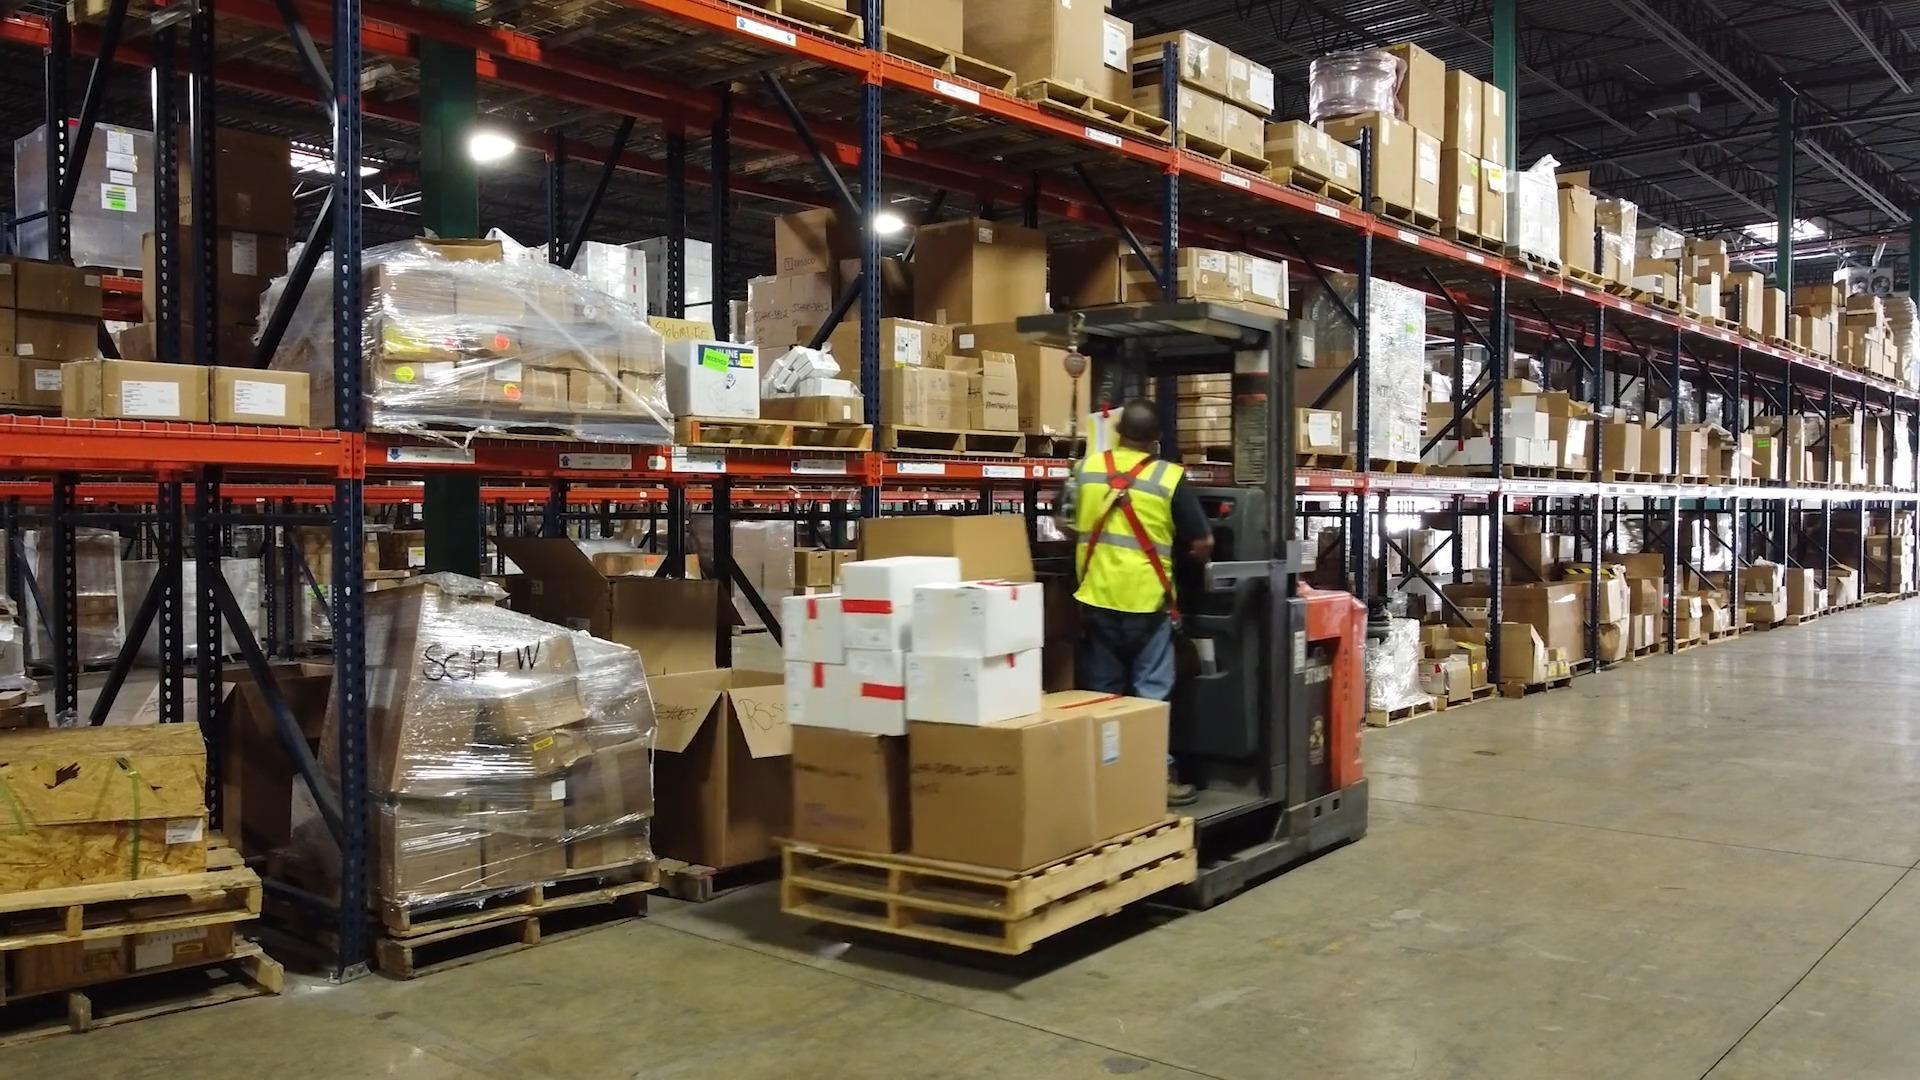-: (661, 663, 786, 864), (920, 713, 1083, 864), (1055, 694, 1174, 840), (153, 113, 297, 227), (973, 5, 1141, 96), (915, 214, 1046, 324), (840, 555, 961, 666), (795, 728, 895, 847), (169, 222, 287, 306), (915, 653, 1046, 720), (913, 583, 1042, 650), (69, 357, 206, 417), (675, 345, 773, 421), (1118, 247, 1242, 305), (0, 315, 98, 388), (215, 363, 318, 429), (1505, 580, 1581, 667), (1263, 123, 1361, 190), (1026, 340, 1092, 429), (893, 363, 969, 438), (840, 650, 903, 736), (11, 261, 120, 310), (773, 208, 856, 270), (778, 591, 848, 661), (1146, 83, 1224, 145), (968, 360, 1027, 436), (1366, 111, 1412, 208), (1162, 32, 1229, 94), (1404, 38, 1448, 133), (870, 318, 953, 364), (793, 658, 843, 728), (1497, 624, 1548, 684), (1228, 54, 1275, 117), (1453, 148, 1485, 240), (1412, 131, 1445, 219), (1241, 253, 1291, 309), (1292, 409, 1346, 459), (1452, 70, 1481, 153), (1225, 113, 1273, 162), (1600, 423, 1640, 471), (1509, 394, 1549, 439), (1551, 415, 1582, 463), (1528, 440, 1560, 464), (1502, 435, 1527, 464)
